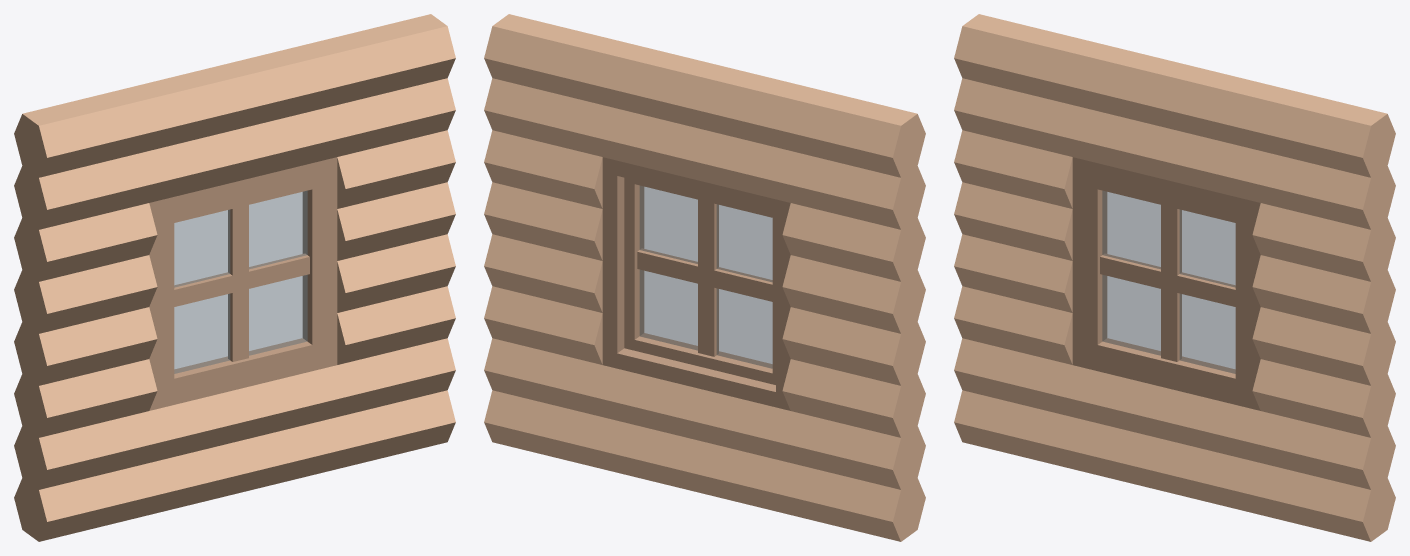
File: cabinWindow.glb
3 views of the same model, side by side, from view 1: azimuth 30°, elevation 25°; view 2: azimuth 150°, elevation 25°; view 3: azimuth 330°, elevation 25° (orthographic).
Parts seen in each view (by area): view 1: cabinWindow(Clone), frame; view 2: cabinWindow(Clone), frame; view 3: cabinWindow(Clone), frame.
Boxes of the visible parts, x1=… form: cabinWindow(Clone): x1=14, y1=14, x2=455, y2=541; frame: x1=149, y1=157, x2=337, y2=410; cabinWindow(Clone): x1=484, y1=14, x2=925, y2=541; frame: x1=602, y1=157, x2=790, y2=410; cabinWindow(Clone): x1=954, y1=14, x2=1395, y2=541; frame: x1=1072, y1=157, x2=1260, y2=410.
Size of the model in its own units: 1 by 0.9727 by 0.1404.
